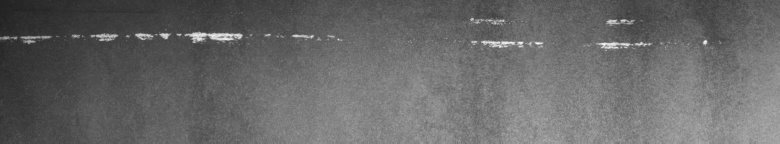kb: (4, 24, 342, 52)
